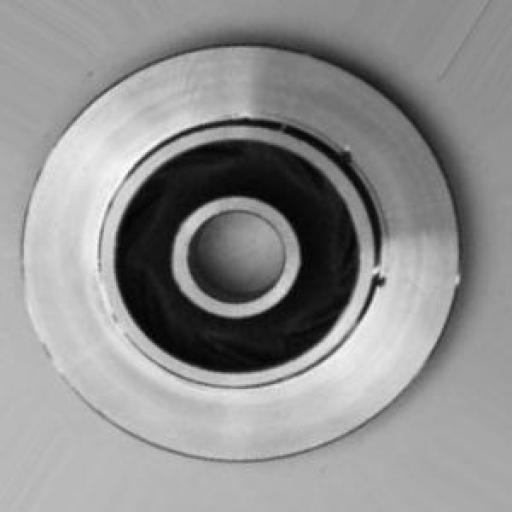defect: (330, 133, 415, 333)
